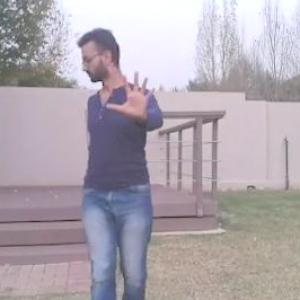follow_hand: (104, 65, 166, 124)
